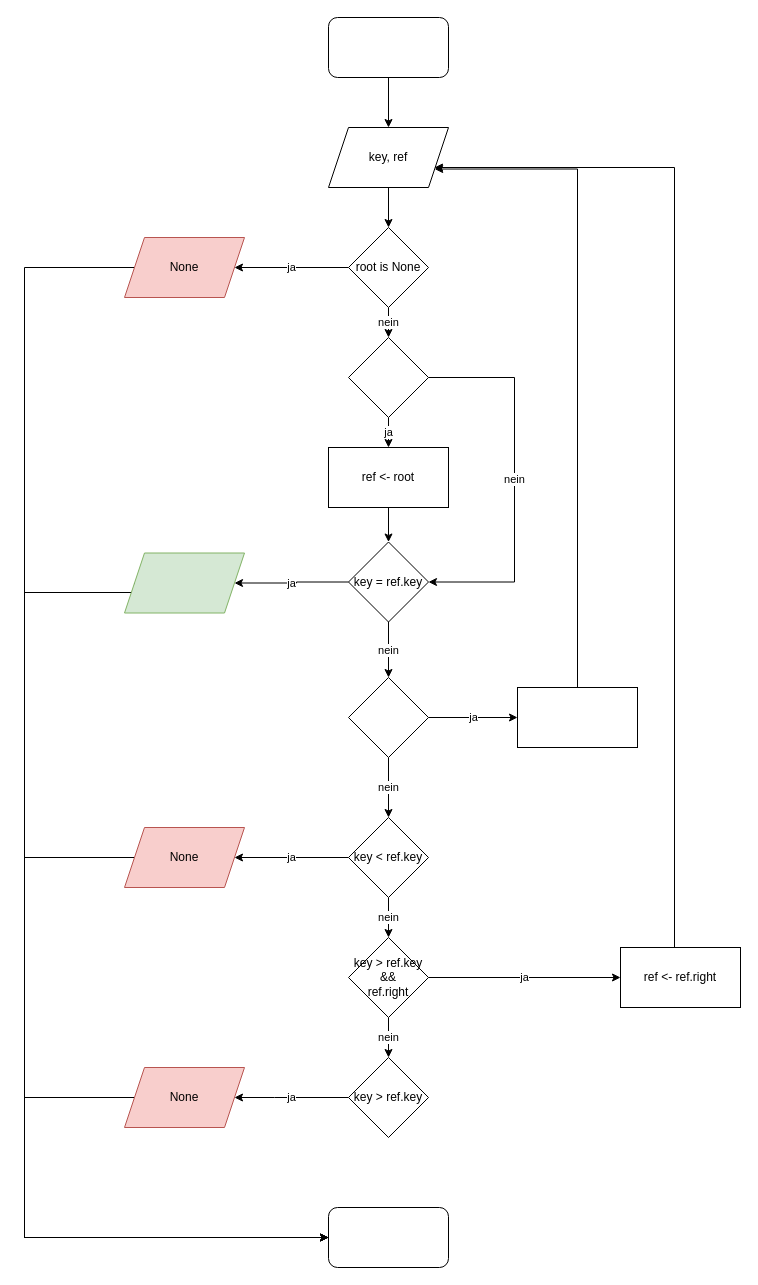
This 758x1285 diagram has some shape labels left out. Each missing label, with the box of its shape:
End: (328, 1206, 448, 1268)
key < ref.key && ref.left: (348, 676, 428, 758)
ref: (124, 552, 244, 613)
ref <- ref.left: (516, 686, 638, 748)
ref is None: (348, 336, 428, 418)
Start: (328, 16, 448, 78)
